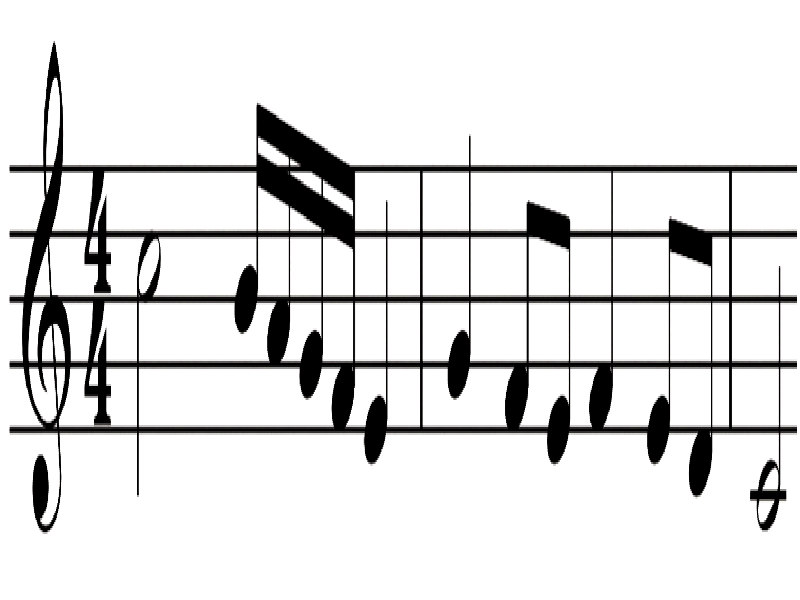B: (128, 227, 176, 505), (750, 254, 791, 546)
C: (644, 204, 688, 474), (688, 211, 721, 496), (503, 192, 541, 435), (546, 196, 577, 474)
CS: (17, 38, 74, 535)
N: (433, 132, 489, 401), (586, 154, 627, 435), (365, 194, 394, 466)
SC: (296, 101, 331, 400), (229, 82, 267, 334), (331, 109, 359, 437), (267, 90, 296, 365)
